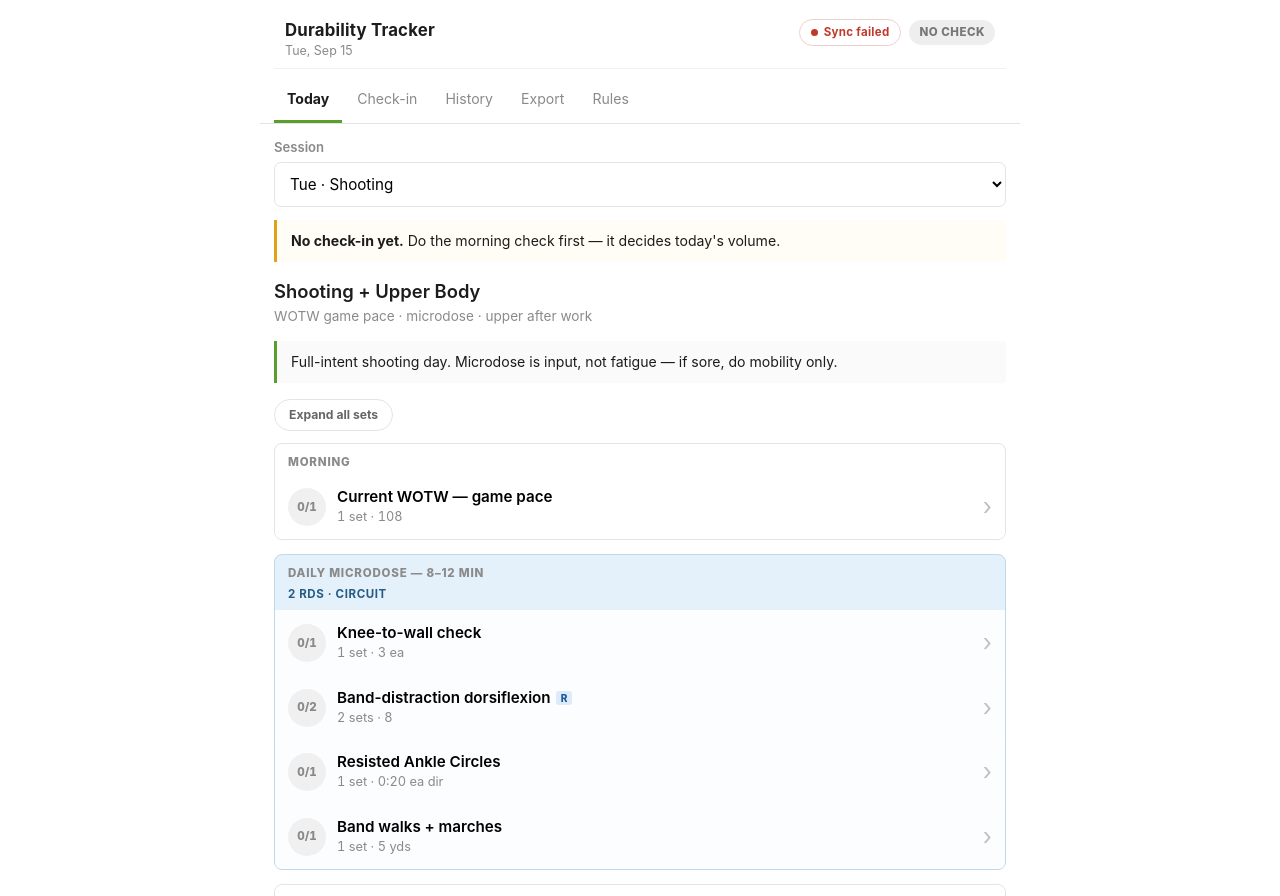
superset navigation › walks A to B within the group
The width and height of the screenshot is (1280, 896).
Select "Mon · Lower A" in the dropdown labelled "Session" at [640, 184], box [274,162,1006,207]
(page scrolled)
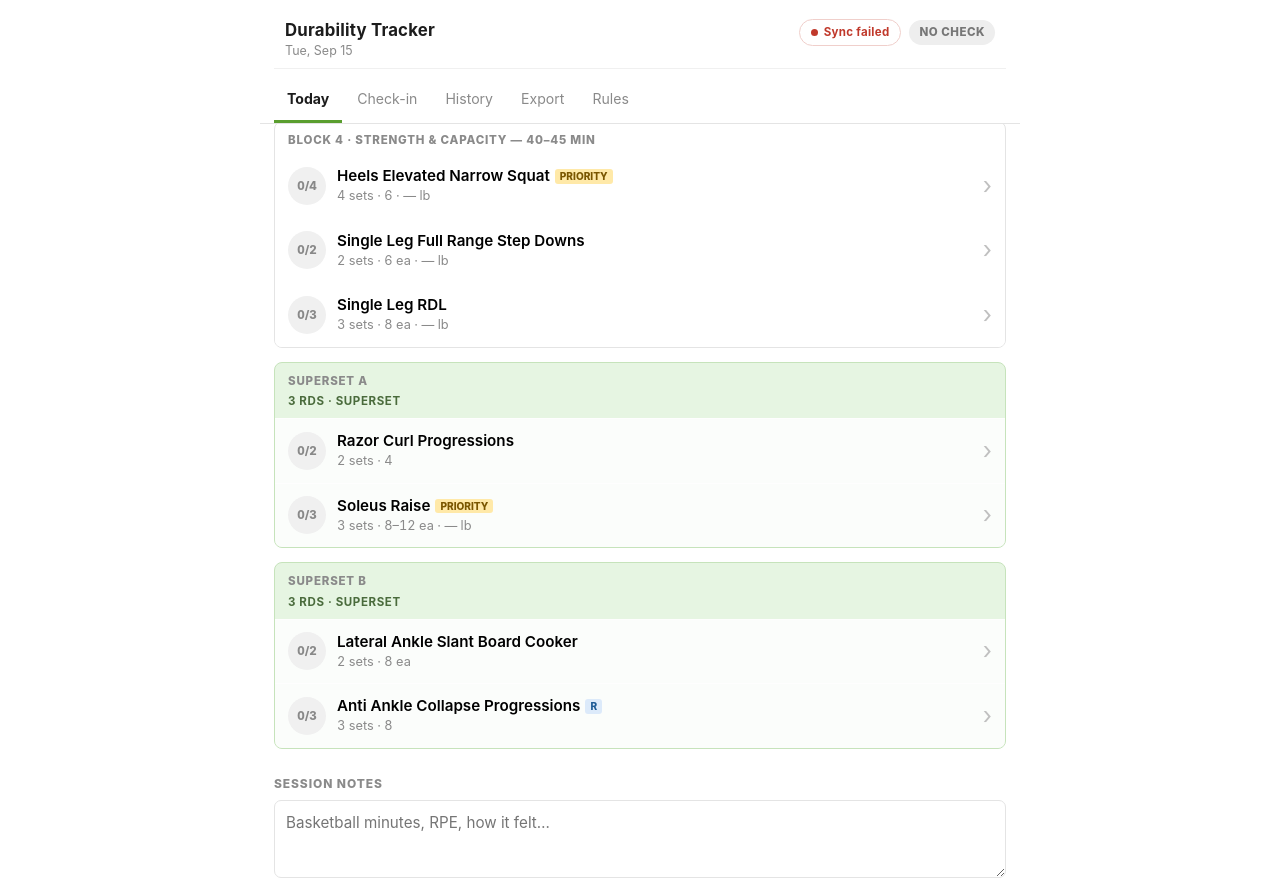
Click the button with class "orow" that starts with "Razor Curl Progressions" at [307, 451], box [275,418,1005,483]
(page scrolled)
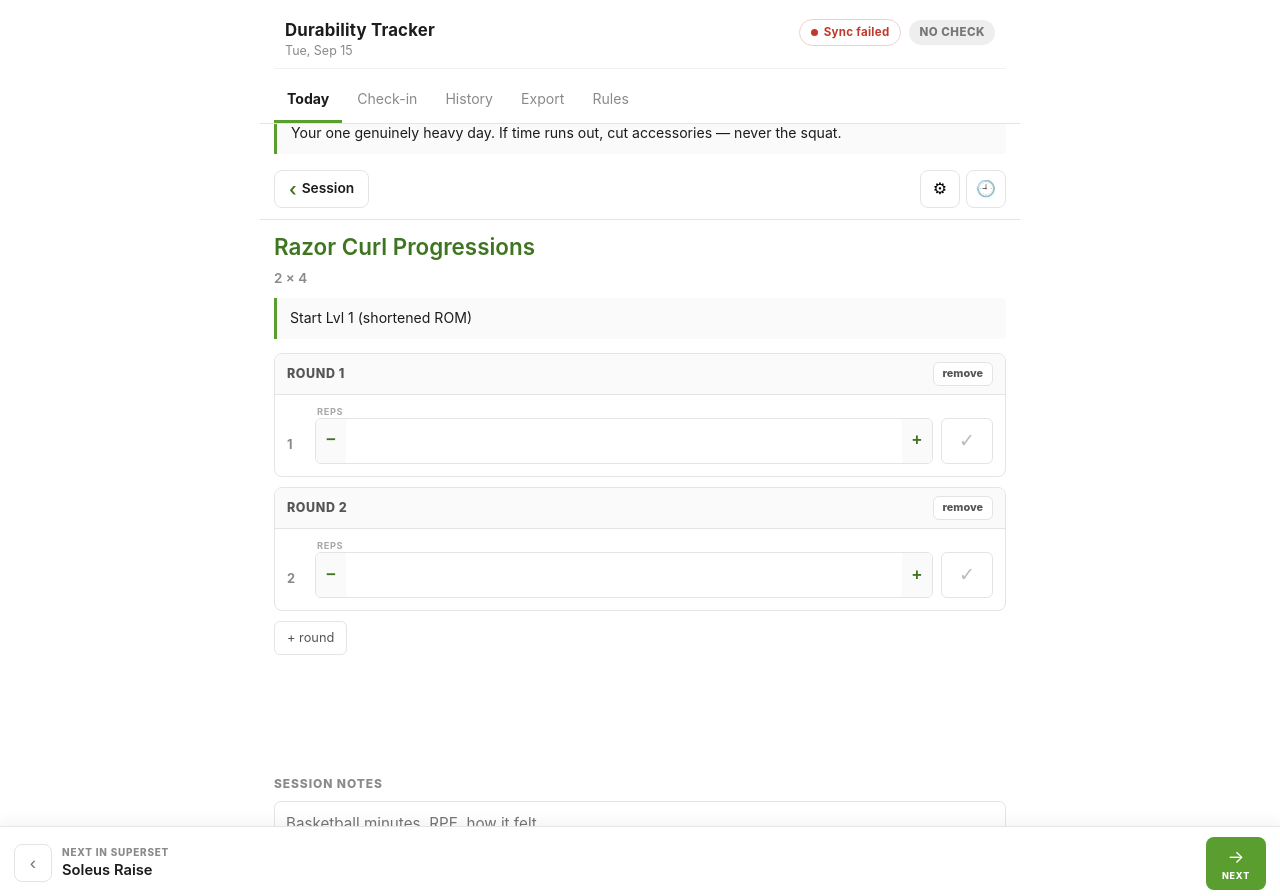
Expected: the text with class "unname" reads "Soleus Raise", [62,861,152,879]
Click the button with aria-label "Next exercise" at [1236, 863], box [1206,836,1266,890]
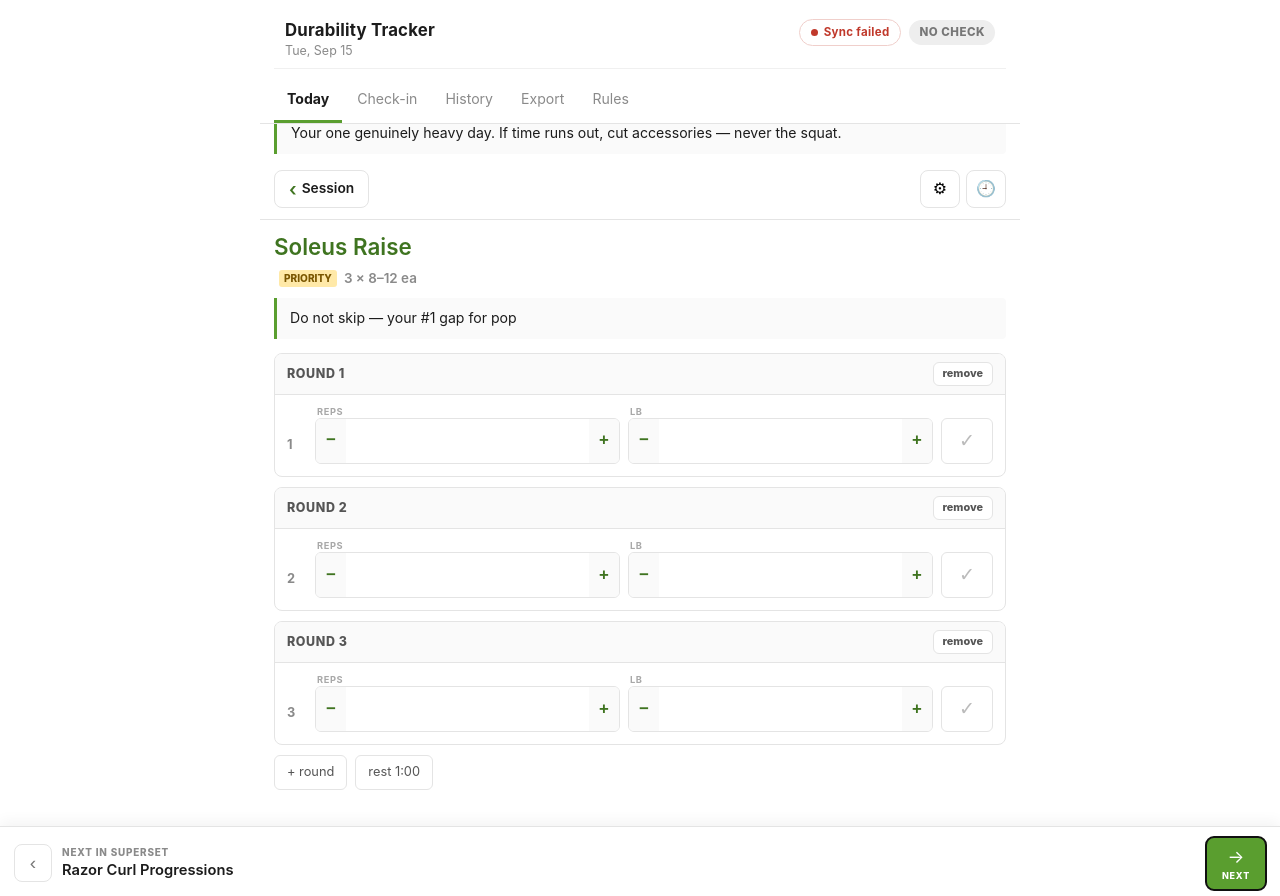
Expected: the heading with class "dname" reads "Soleus Raise", [274,233,412,260]
